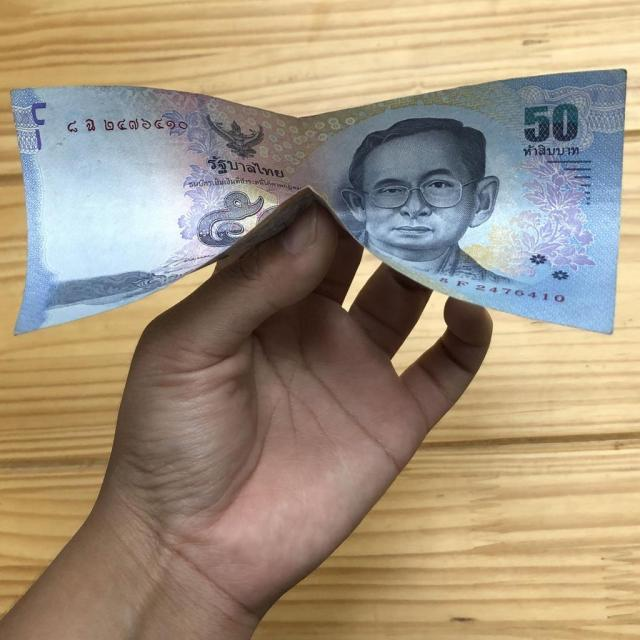THAI50: (11, 69, 627, 334)
